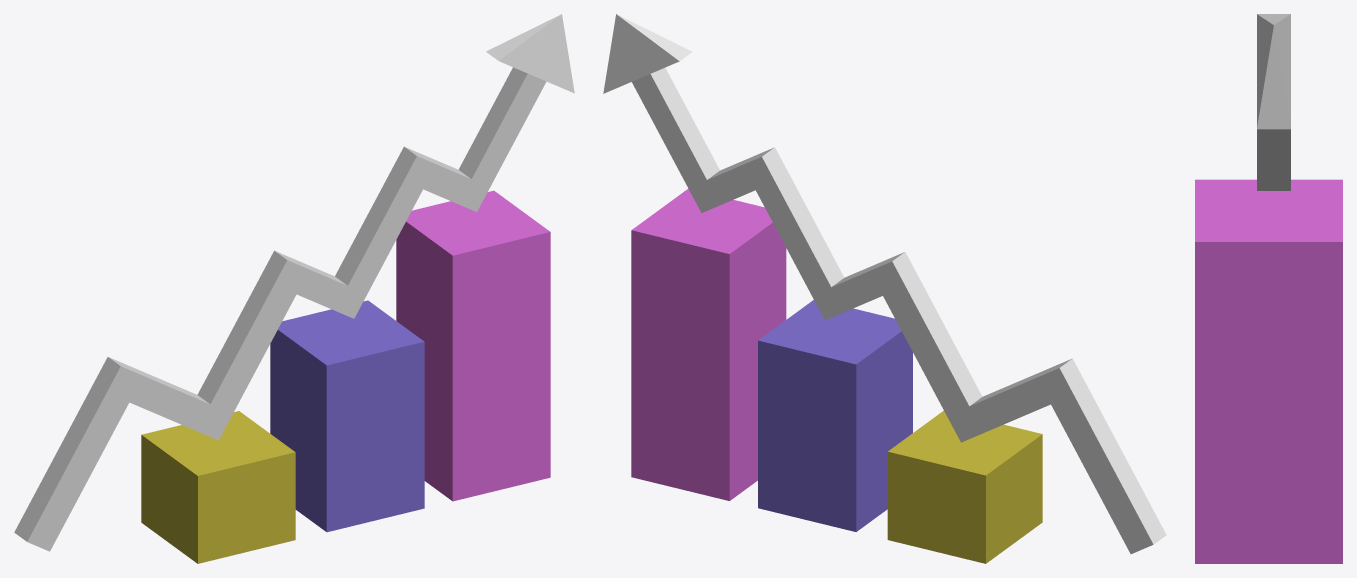
Rendered from Statistics with arrow.fbx.
3 views of the same model, side by side, from view 1: azimuth 30°, elevation 25°; view 2: azimuth 150°, elevation 25°; view 3: azimuth 270°, elevation 25° (orthographic). The views are drawn at different scales.
Parts seen in each view (by area): view 1: Cube.002, Cube.003, Cube.001, Cube; view 2: Cube.002, Cube.003, Cube.001, Cube; view 3: Cube.002, Cube.003.
Boxes of the visible parts, x1,y1,x2,y2 form: Cube.002: (396,190,550,501); Cube.003: (14,14,574,551); Cube.001: (270,300,424,532); Cube: (141,411,295,563); Cube.002: (631,188,786,500); Cube.003: (603,14,1166,553); Cube.001: (758,300,912,531); Cube: (887,410,1042,563); Cube.002: (1195,179,1342,563); Cube.003: (1257,14,1290,190).
Bounding box in the file's own units: 363 × 274 × 64.8.
